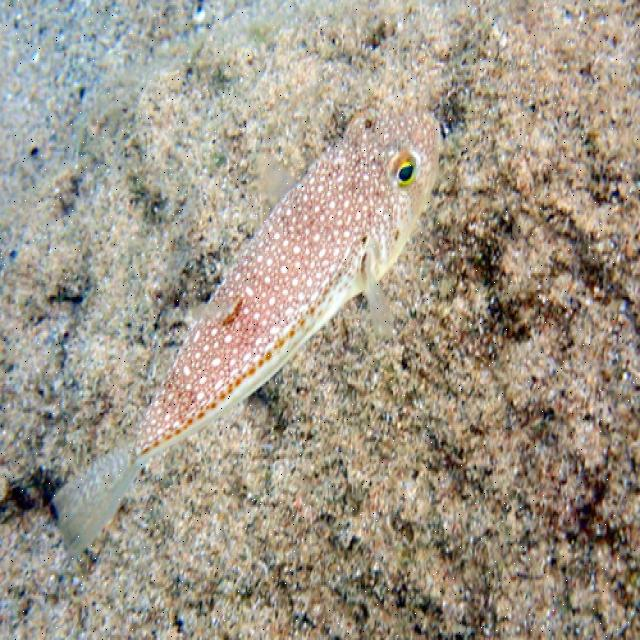Balik: (54, 110, 440, 554)
